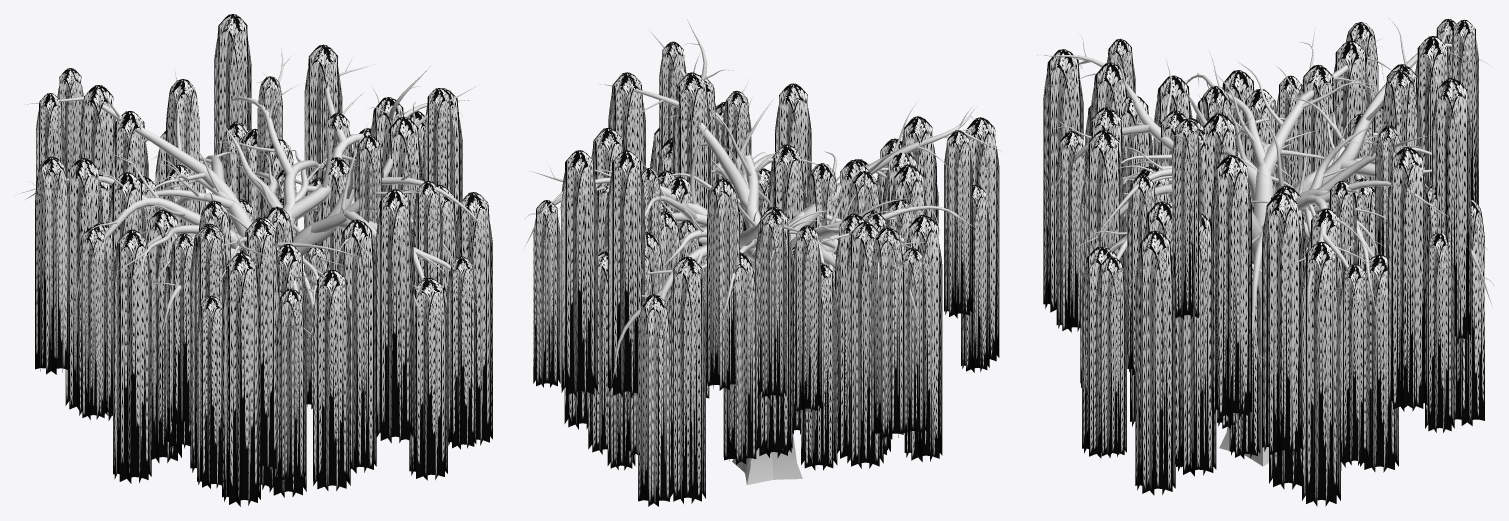
File: willow_tree_-_ver2.fbx
The picture shows the model from 3 angles, left to right: view 1: azimuth 30°, elevation 25°; view 2: azimuth 150°, elevation 25°; view 3: azimuth 270°, elevation 25°; orthographic projection. The views are drawn at different scales.
Parts seen in each view (by area): view 1: Cylinder.076, Branches; view 2: Cylinder.076, Branches; view 3: Cylinder.076, Branches.
Part boxes in pixels (x1,y1,x2,y2): Cylinder.076: (35, 14, 492, 506); Branches: (16, 46, 490, 364); Cylinder.076: (533, 41, 999, 506); Branches: (524, 16, 1003, 383); Cylinder.076: (1043, 19, 1484, 506); Branches: (1037, 16, 1493, 374).
Size of the model in its own units: 3018 by 2898 by 2826.
